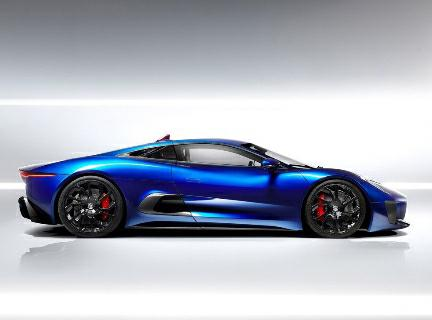捷豹-C-X75: (12, 128, 415, 250)
